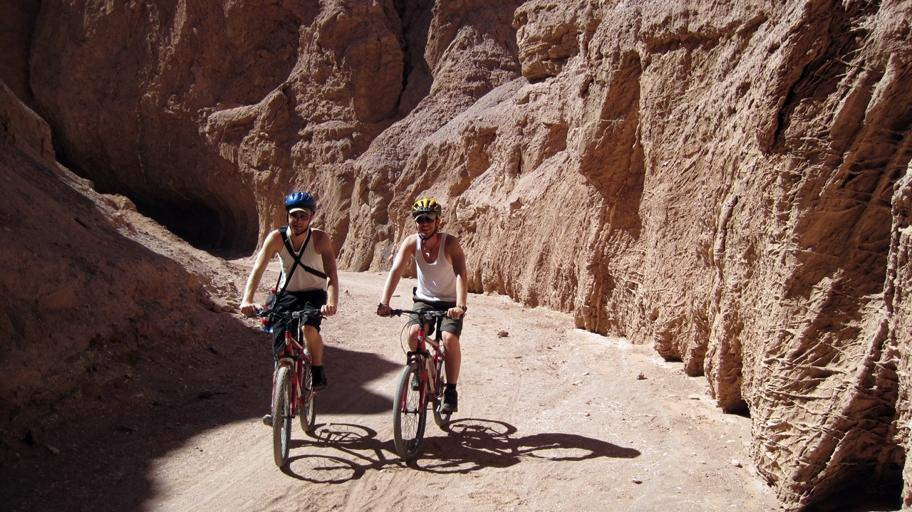non-vehicle: (246, 305, 336, 467), (377, 305, 463, 456)
